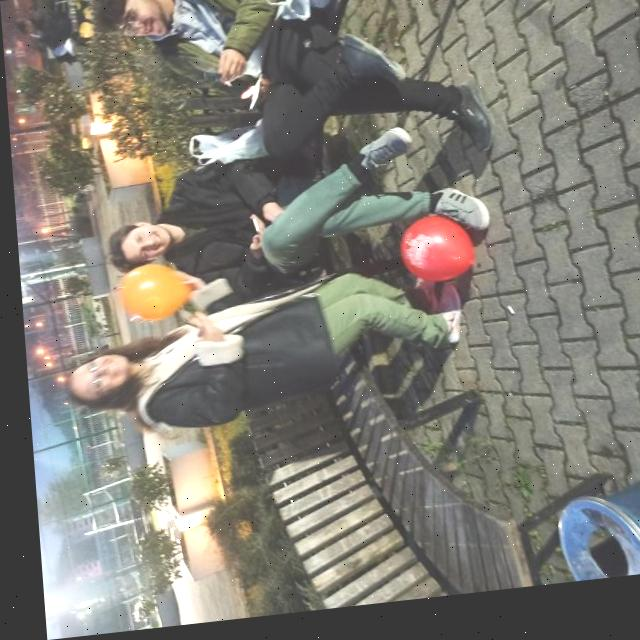balloon: (394, 221, 474, 295), (110, 261, 191, 328)
